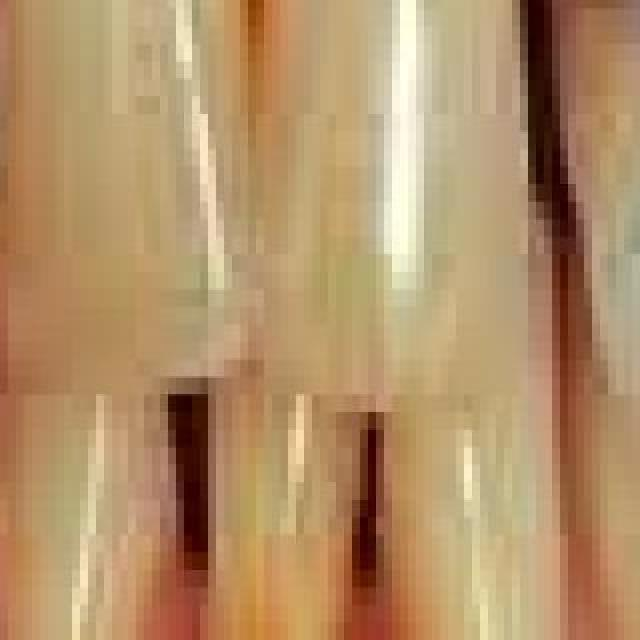cavities: (324, 0, 488, 398), (560, 0, 640, 464)
spacing: (98, 258, 258, 606), (322, 354, 420, 640), (520, 0, 598, 354), (0, 0, 22, 260)
